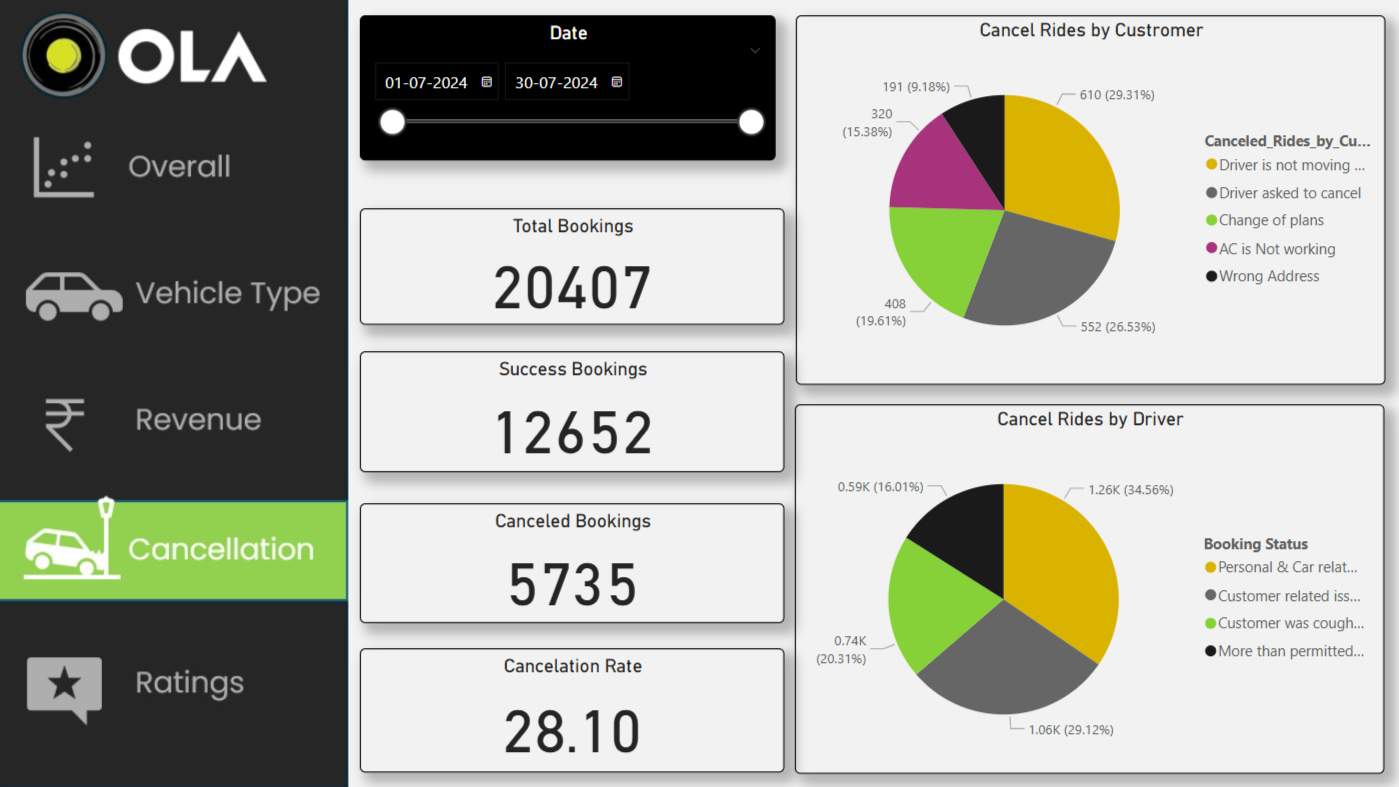

What the dashboard file says about the page in this screenshot:
{"tool":"powerbi","page":{"name":"Cancellation","canvas":[1280,720],"ordinal":3},"visuals":[{"type":"actionButton","box":[0,221.3,324.4,96],"z":0},{"type":"actionButton","box":[0,335.1,324.4,96],"z":1000},{"type":"actionButton","box":[0,447.1,324.4,96],"z":2000},{"type":"actionButton","box":[0,578.7,324.4,96],"z":3000},{"type":"actionButton","box":[0,104.9,324.4,96],"z":4000},{"type":"pieChart","title":"Cancel Rides by Custromer","fields":{"Category":["July.Canceled_Rides_by_Customer"],"Y":["CountNonNull(July.Canceled_Rides_by_Customer)"]},"box":[731.1,15.6,535.6,335.6],"z":5000},{"type":"pieChart","title":"Cancel Rides by Driver","fields":{"Category":["July.Canceled_Rides_by_Driver"],"Y":["CountNonNull(July.Canceled_Rides_by_Driver)"]},"box":[730,368.9,535.6,335.6],"z":6000},{"type":"slicer","title":"Date","fields":{"Values":["July.Date"]},"box":[334.4,15.6,377.8,132.2],"z":7000},{"type":"card","title":"Total Bookings","fields":{"Values":["Count(July.Booking_ID)"]},"box":[334.4,191.1,385.6,105.6],"z":8000},{"type":"card","title":"Success Bookings","fields":{"Values":["Count(July.Booking_ID)"]},"box":[334.4,321.1,385.6,110],"z":9000},{"type":"card","title":"Canceled Bookings","fields":{"Values":["Count(July.Booking_ID)"]},"box":[334.4,458.9,385.6,108.9],"z":10000},{"type":"card","title":"Cancelation Rate","fields":{"Values":["July.CanceledPercentage"]},"box":[334.4,591.1,385.6,113.3],"z":11000}]}

Visuals, with their boxes in screenshot pixels (x1, y1, x2, y2), scaled from the page's 1280x720 canvas onto the 1399x787 screenshot:
actionButton: <region>0, 242, 355, 347</region>
actionButton: <region>0, 366, 355, 471</region>
actionButton: <region>0, 489, 355, 594</region>
actionButton: <region>0, 633, 355, 737</region>
actionButton: <region>0, 115, 355, 220</region>
"Cancel Rides by Custromer" pieChart: <region>799, 17, 1384, 384</region>
"Cancel Rides by Driver" pieChart: <region>798, 403, 1383, 770</region>
"Date" slicer: <region>365, 17, 778, 162</region>
"Total Bookings" card: <region>365, 209, 787, 324</region>
"Success Bookings" card: <region>365, 351, 787, 471</region>
"Canceled Bookings" card: <region>365, 502, 787, 621</region>
"Cancelation Rate" card: <region>365, 646, 787, 770</region>
